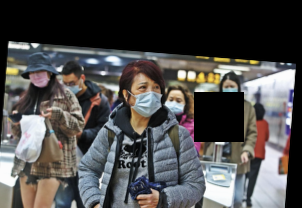with_mask: (130, 79, 164, 119), (27, 68, 51, 88), (163, 95, 185, 115), (59, 79, 82, 96), (220, 81, 240, 100)
